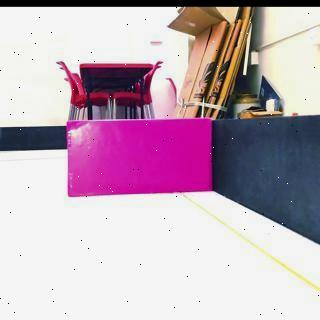xparking: (65, 116, 212, 198)
